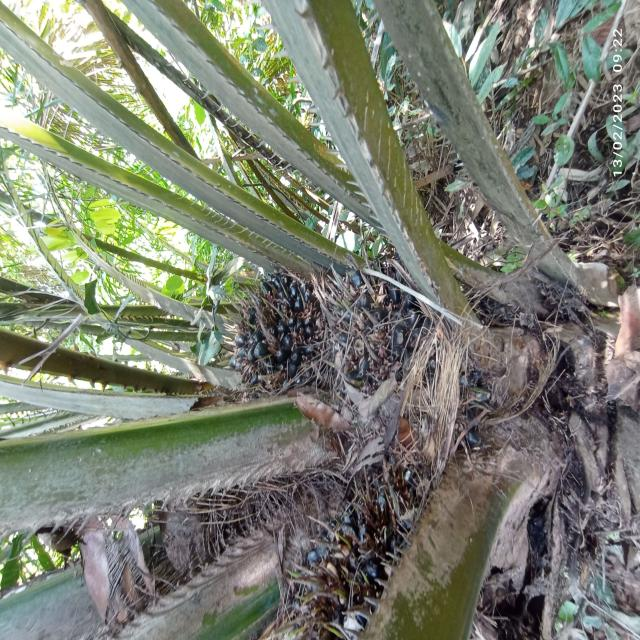fraksi 00: (270, 442, 451, 640), (176, 209, 339, 417), (312, 204, 456, 439)
